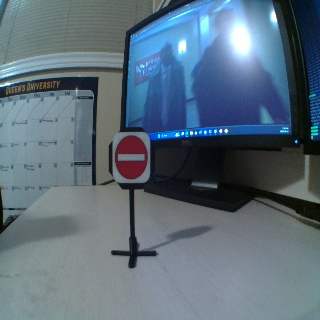sign_noentry: (111, 132, 149, 181)
